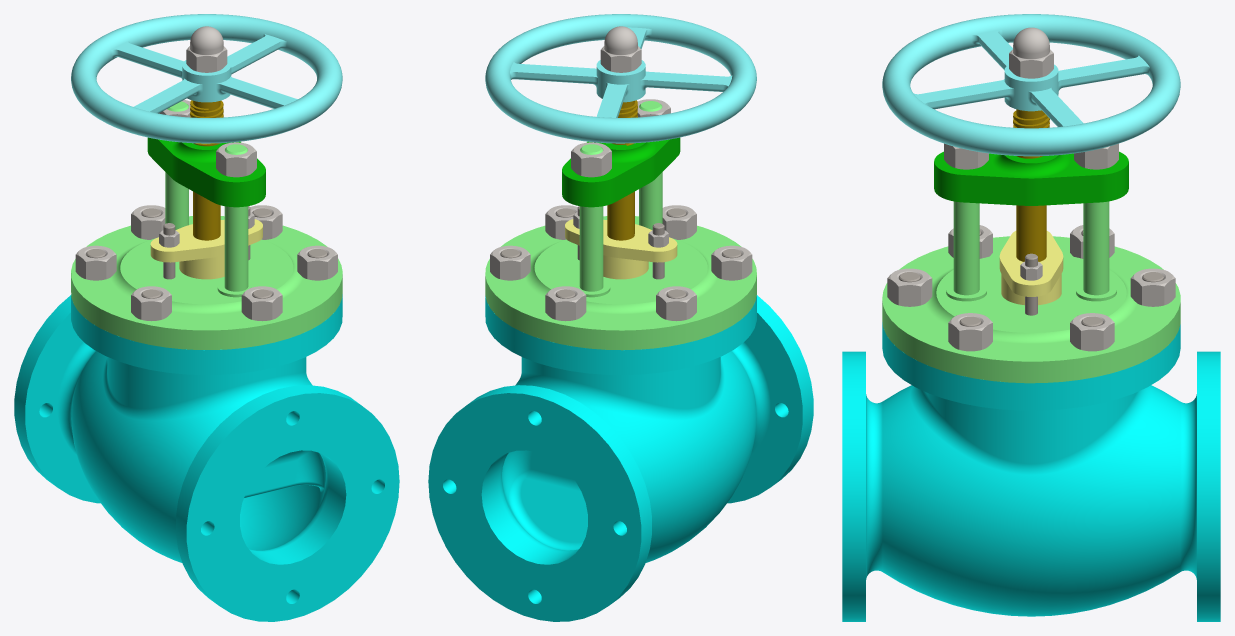
3 views of the same model, side by side, from view 1: azimuth 30°, elevation 25°; view 2: azimuth 150°, elevation 25°; view 3: azimuth 270°, elevation 25° (orthographic). The views are drawn at different scales.
Visible parts, largest first — view 1: currentmodel.wrl.cleaner.materialmerger.gles; view 2: currentmodel.wrl.cleaner.materialmerger.gles; view 3: currentmodel.wrl.cleaner.materialmerger.gles.
Boxes of the visible parts, x1=… form: currentmodel.wrl.cleaner.materialmerger.gles: x1=14, y1=14, x2=399, y2=621; currentmodel.wrl.cleaner.materialmerger.gles: x1=428, y1=14, x2=813, y2=621; currentmodel.wrl.cleaner.materialmerger.gles: x1=842, y1=14, x2=1220, y2=621.
Bounding box in the file's own units: 276 × 592 × 350.
